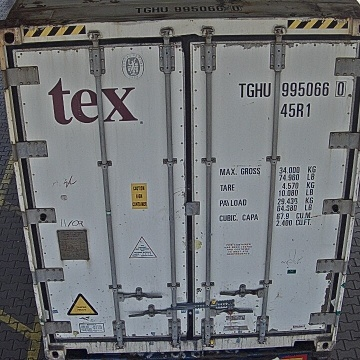serial_id: (239, 81, 346, 97)
